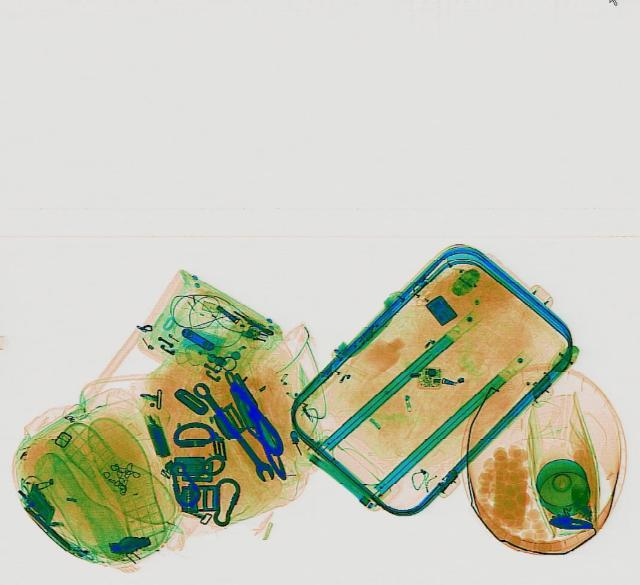Wrench: (188, 378, 278, 484)
